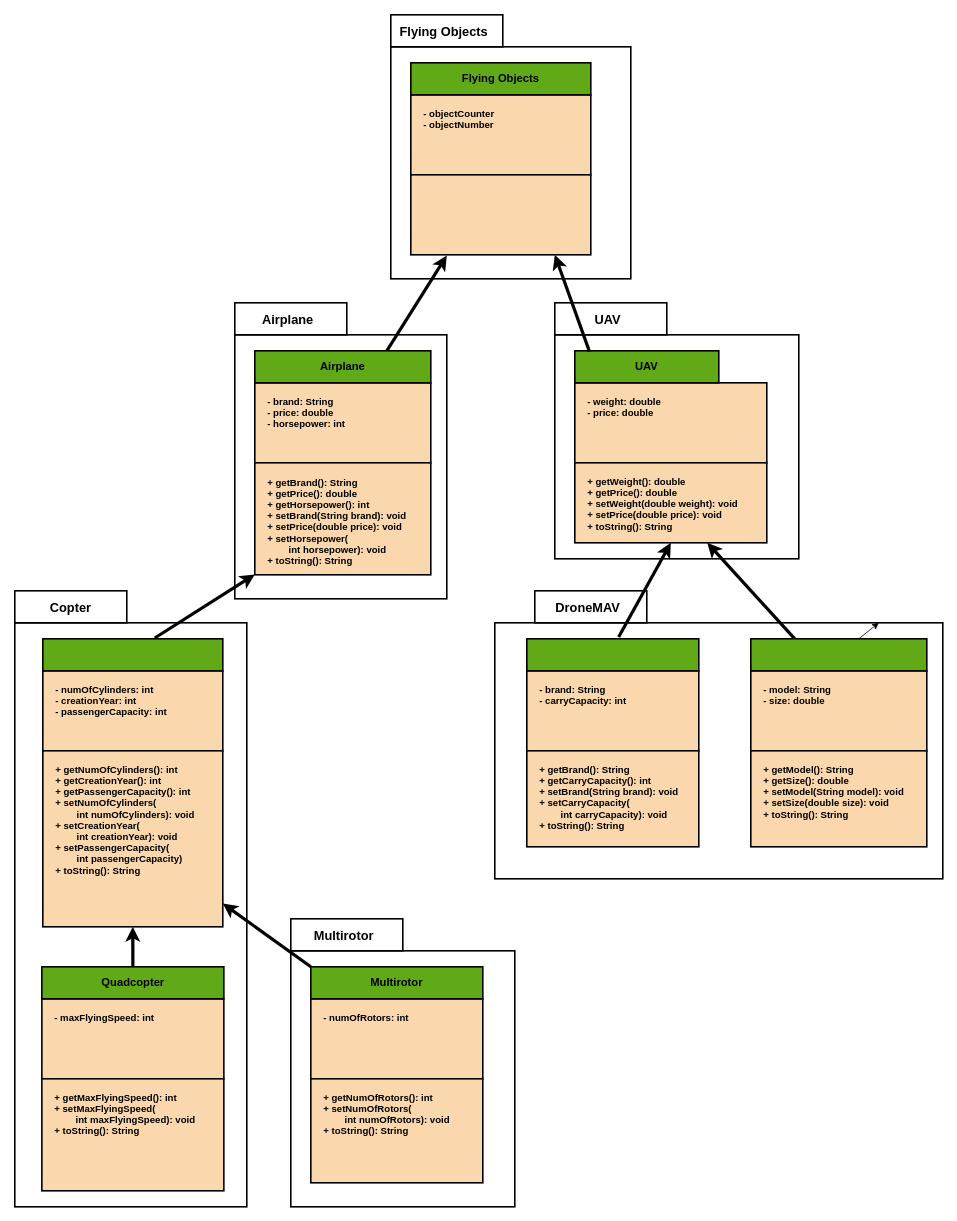
Image size: 957x1221. Some labels were removed from this diagram. Each missing label, with the box of its shape:
+ getObjectNumber(): int + toString(): String: (410, 174, 591, 255)
AgriculturalDrone: (526, 638, 699, 671)
Helicopter: (42, 638, 223, 671)
MAV: (750, 638, 927, 671)
